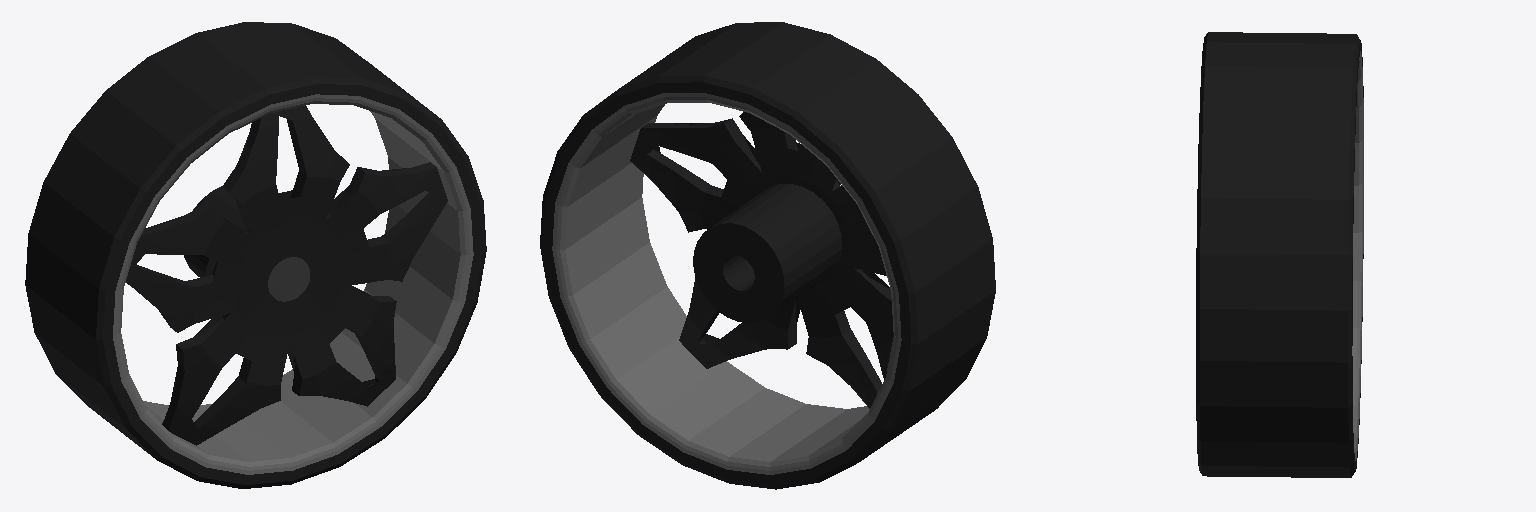
File: llanta_del_izq.obj
3 renders of one model, left to right at view 1: azimuth 30°, elevation 25°; view 2: azimuth 150°, elevation 25°; view 3: azimuth 270°, elevation 25°, orthographic.
Visible parts, largest first — view 1: car.062, car.061; view 2: car.062, car.061; view 3: car.062.
Part boxes in pixels (bbox=[...]): car.062: bbox=[25, 22, 486, 488]; car.061: bbox=[126, 105, 447, 445]; car.062: bbox=[540, 22, 995, 489]; car.061: bbox=[630, 112, 893, 408]; car.062: bbox=[1196, 32, 1363, 477].
Size of the model in its own units: 0.7865 by 0.7779 by 0.2951.